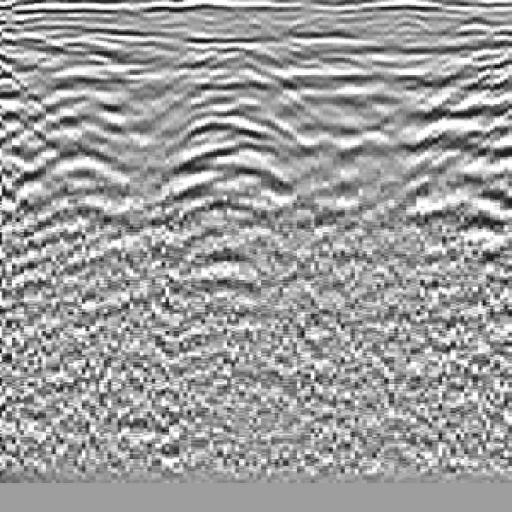metalic: (154, 34, 340, 268)
nonmetalic: (406, 40, 512, 286)
